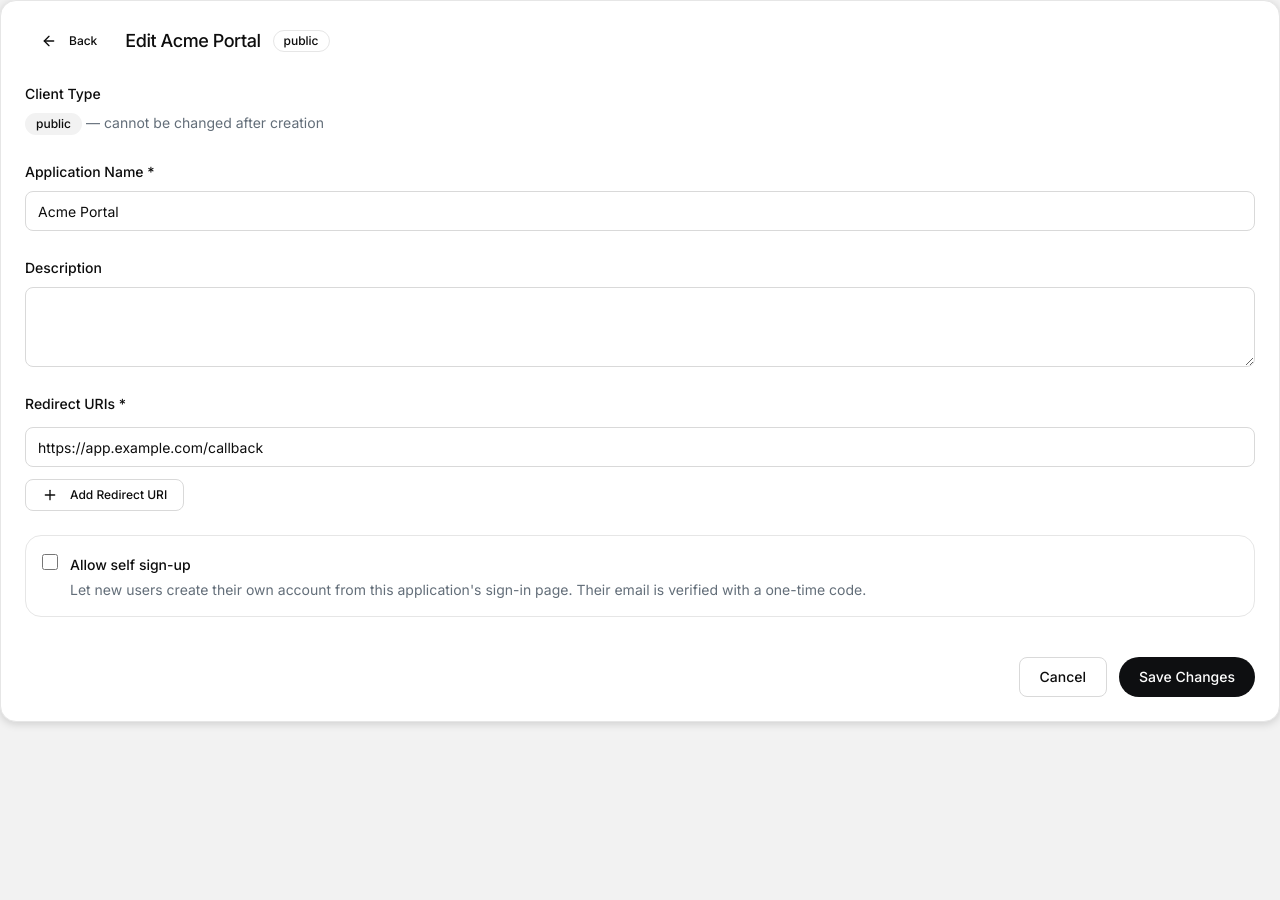
Test: EditClientForm self sign-up settings › reveals the default role field only when self sign-up is enabled
Expected: the field labelled "Default role *" is not shown
Step 1. Click the checkbox labelled "Allow self sign-up" → [50, 562], box top-left (42, 554), bottom-right (58, 570)
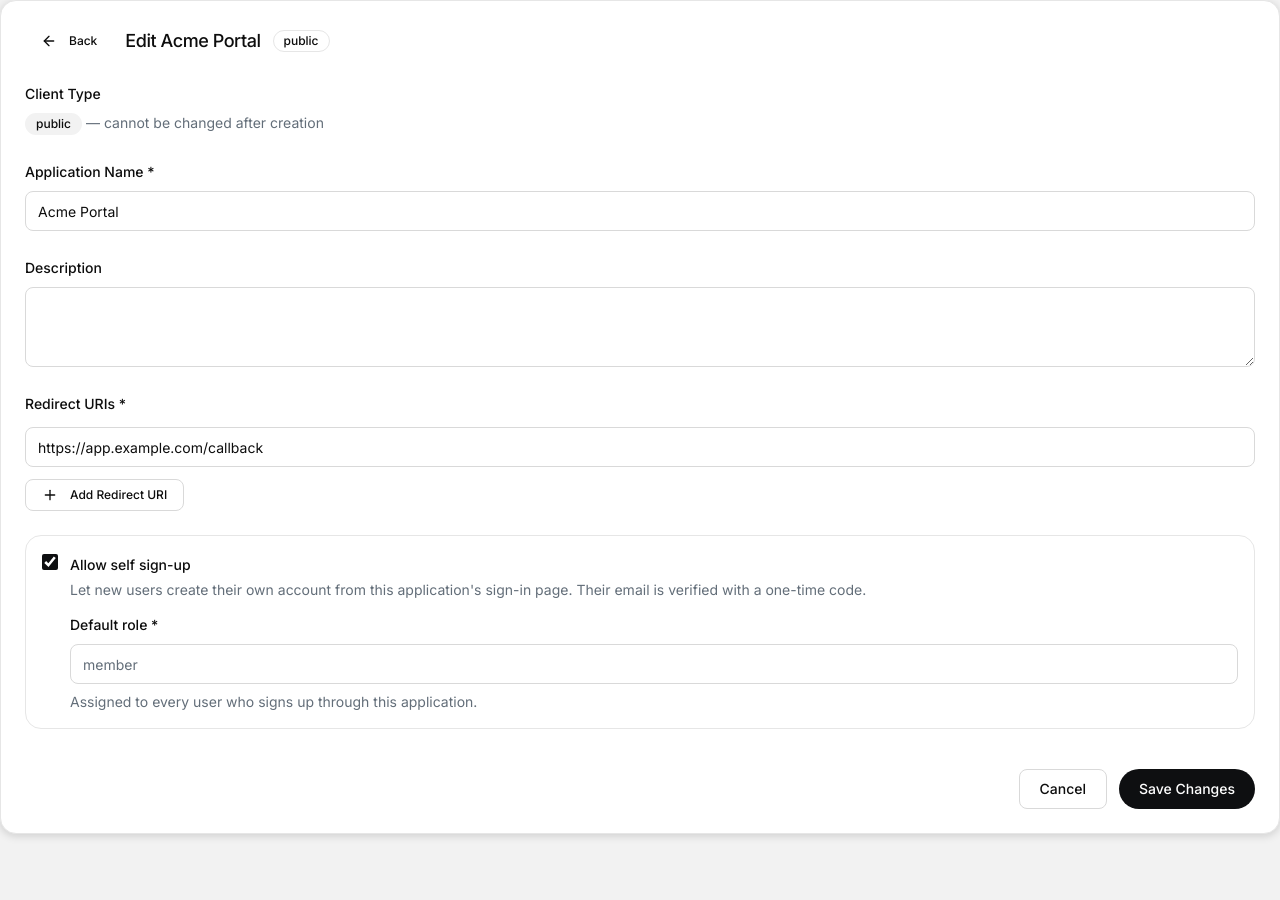
Expected: the field labelled "Default role *" is shown, top-left (70, 644), bottom-right (1238, 684)
